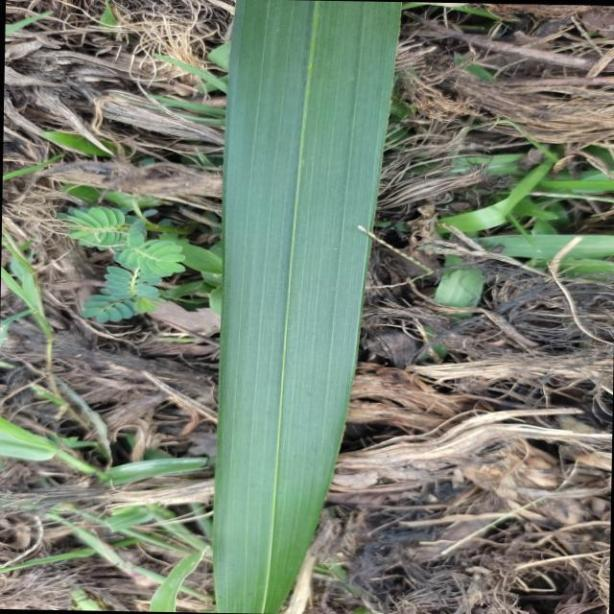Healthy: (218, 0, 402, 614)
